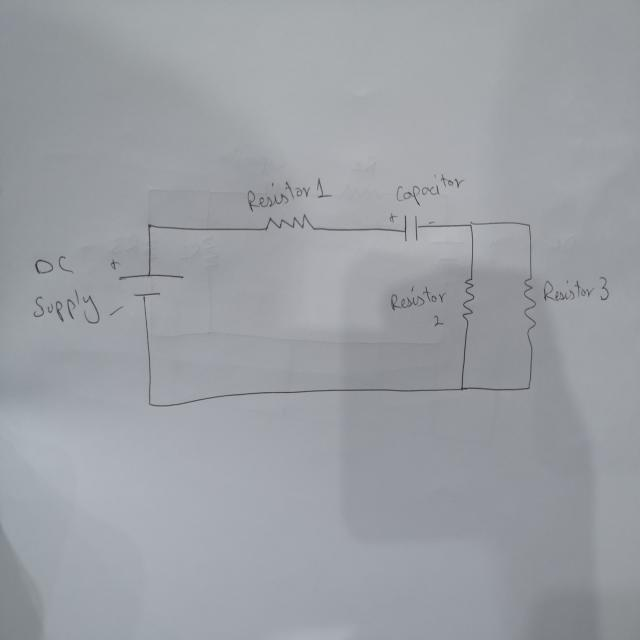capacitor: (387, 210, 437, 243)
junction: (458, 382, 467, 394), (145, 220, 154, 231), (524, 381, 532, 393), (146, 397, 154, 409), (525, 220, 533, 230), (467, 219, 473, 230)
resistor: (261, 211, 317, 235), (522, 269, 536, 340), (460, 274, 475, 324)
source: (116, 272, 186, 302)
text: (31, 286, 104, 326), (394, 170, 466, 209), (244, 179, 324, 210), (541, 276, 610, 303), (389, 283, 447, 313), (30, 252, 81, 277), (432, 313, 442, 329)
